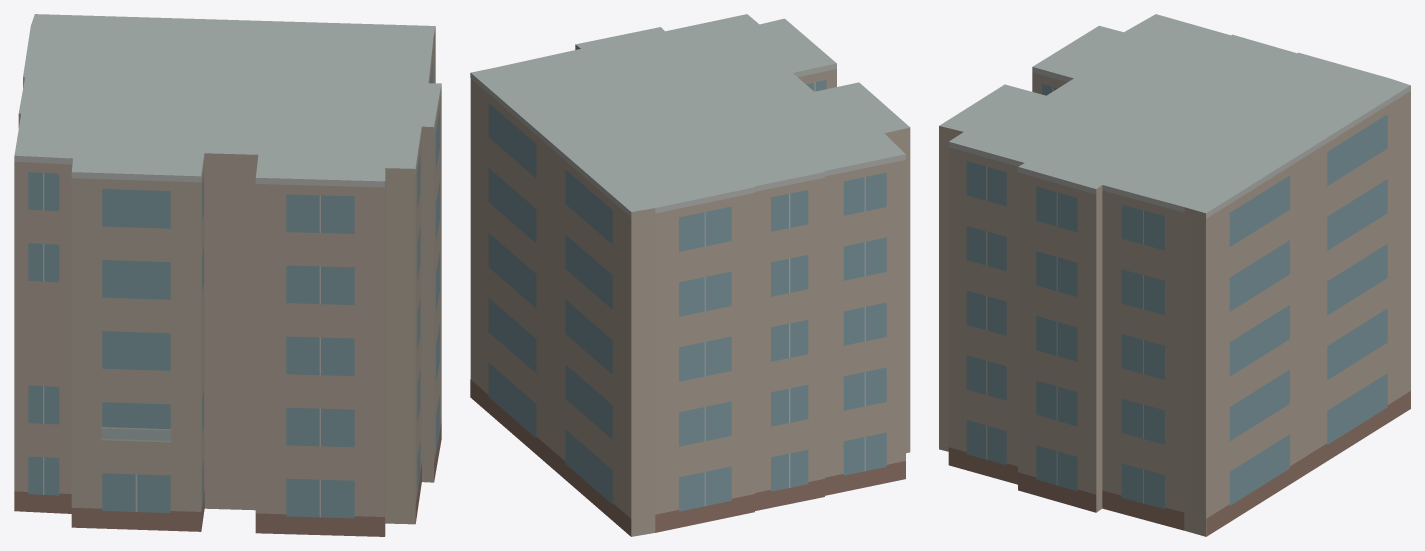
File: survey-upis-32661807.glb
The picture shows the model from 3 angles, left to right: view 1: azimuth 30°, elevation 25°; view 2: azimuth 150°, elevation 25°; view 3: azimuth 270°, elevation 25°; orthographic projection. The views are drawn at different scales.
Visible parts, largest first — view 1: survey-upis-32661807.tmp; view 2: survey-upis-32661807.tmp; view 3: survey-upis-32661807.tmp.
Boxes of the visible parts, x1,y1,x2,y2 form: survey-upis-32661807.tmp: (14,14,441,536); survey-upis-32661807.tmp: (470,14,910,536); survey-upis-32661807.tmp: (939,14,1410,536).
Bounding box in the file's own units: 18.9 × 14.3 × 18.9.
